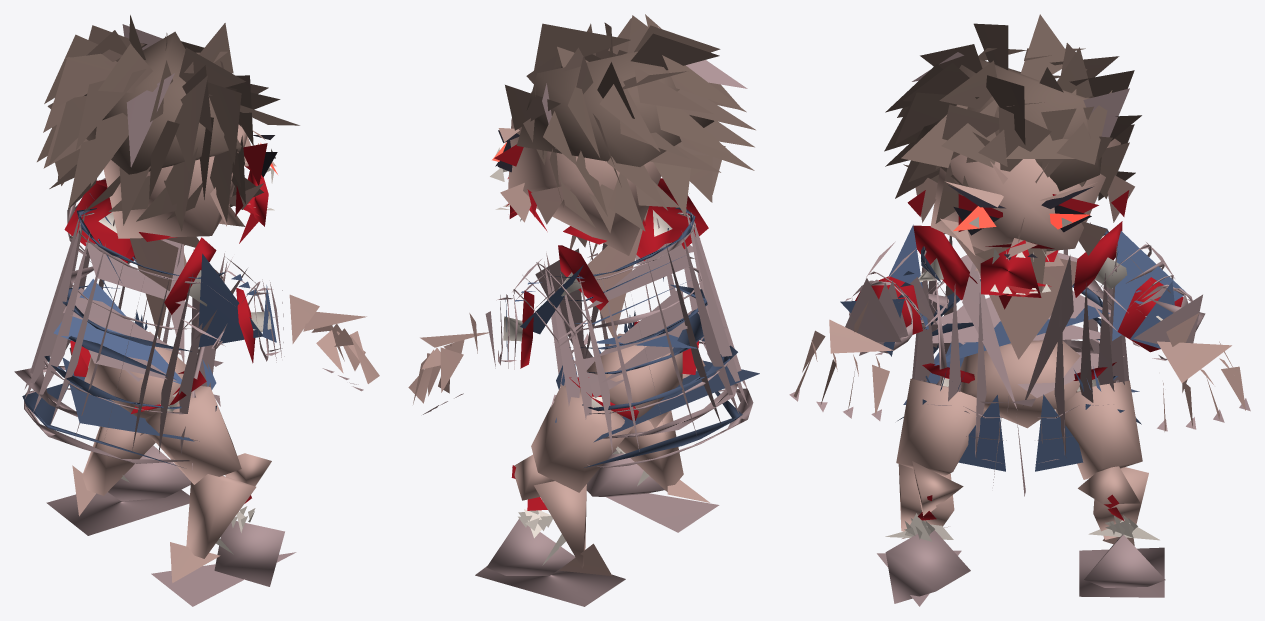
Rendered from inf.bathrobe-neighbor.corpse.glb.
The picture shows the model from 3 angles, left to right: view 1: azimuth 30°, elevation 25°; view 2: azimuth 150°, elevation 25°; view 3: azimuth 270°, elevation 25°; orthographic projection. The views are drawn at different scales.
Parts seen in each view (by area): view 1: head, torso, footR, footL, legR, shinR, armR, shinL, hip, handR, stump_armL, foreArmR (+2 smaller); view 2: head, torso, footL, legL, footR, shinL, hip, stump_armR, shinR, handL, armL, stump_armL (+2 smaller); view 3: head, torso, legR, legL, footL, hip, footR, foreArmR, foreArmL, shinR, shinL, armL (+7 smaller).
Part boxes in pixels (bbox=[...]): head: bbox=[37, 15, 299, 247]; torso: bbox=[14, 207, 227, 469]; footR: bbox=[151, 506, 296, 606]; footL: bbox=[46, 445, 190, 535]; legR: bbox=[145, 386, 241, 484]; shinR: bbox=[186, 453, 271, 558]; armR: bbox=[181, 253, 262, 349]; shinL: bbox=[82, 426, 155, 495]; hip: bbox=[84, 332, 185, 418]; handR: bbox=[303, 312, 379, 391]; stump_armL: bbox=[64, 179, 134, 262]; foreArmR: bbox=[253, 279, 319, 362]; head: bbox=[490, 14, 755, 260]; torso: bbox=[535, 207, 759, 467]; footL: bbox=[475, 509, 625, 606]; legL: bbox=[531, 385, 632, 492]; footR: bbox=[586, 446, 719, 532]; shinL: bbox=[511, 454, 586, 568]; hip: bbox=[586, 333, 682, 417]; stump_armR: bbox=[636, 178, 708, 260]; shinR: bbox=[618, 410, 683, 491]; handL: bbox=[408, 332, 488, 414]; armL: bbox=[512, 259, 592, 348]; stump_armL: bbox=[558, 245, 608, 310]; head: bbox=[884, 14, 1141, 309]; torso: bbox=[897, 222, 1141, 496]; legR: bbox=[896, 378, 985, 475]; legL: bbox=[1055, 380, 1142, 479]; footL: bbox=[1079, 515, 1165, 597]; hip: bbox=[960, 340, 1080, 428]; footR: bbox=[877, 513, 970, 606]; foreArmR: bbox=[840, 278, 912, 356]; foreArmL: bbox=[1130, 281, 1205, 360]; shinR: bbox=[898, 461, 963, 531]; shinL: bbox=[1078, 466, 1148, 539]; armL: bbox=[1092, 231, 1185, 340].
Size of the model in its own units: 0.8935 by 1.82 by 1.41.
